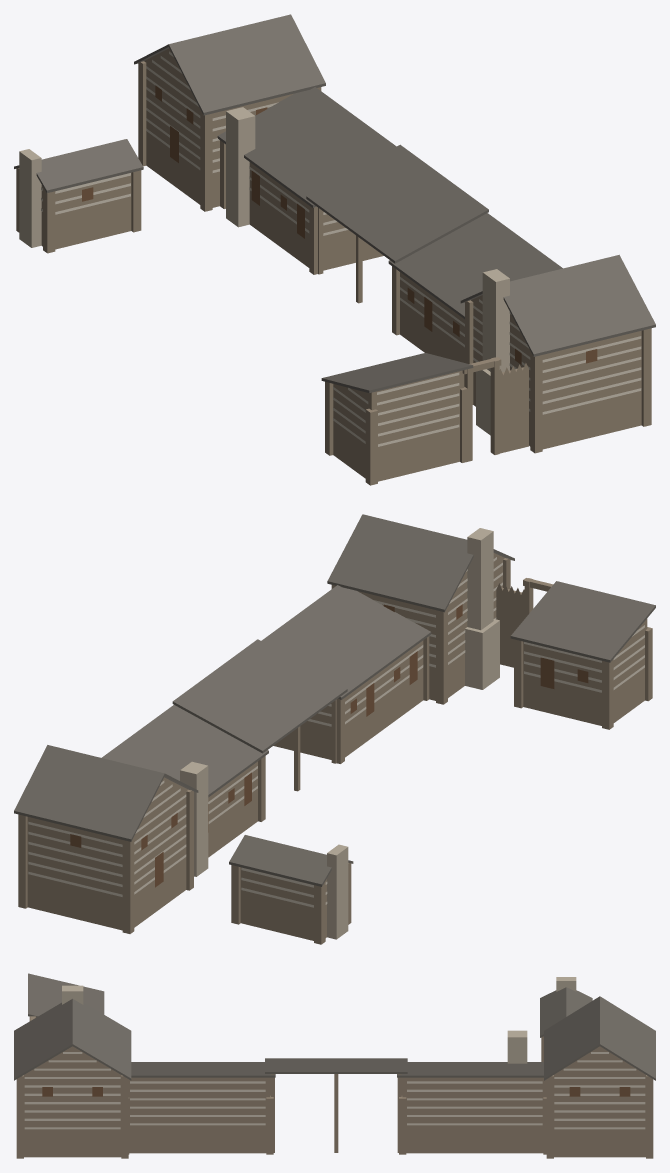
File: nash-fort-nashborough.glb
3 renders of one model, top to bottom at view 1: azimuth 30°, elevation 25°; view 2: azimuth 150°, elevation 25°; view 3: azimuth 270°, elevation 25°, orthographic. The views are drawn at different scales.
Parts seen in each view (by area): view 1: Fort Nashborough; view 2: Fort Nashborough; view 3: Fort Nashborough.
Boxes of the visible parts, <box> form: Fort Nashborough: <box>14,14,655,485</box>; Fort Nashborough: <box>14,514,655,944</box>; Fort Nashborough: <box>14,973,655,1158</box>.
Bounding box in the file's own units: 20.15 × 10.3 × 48.7.
